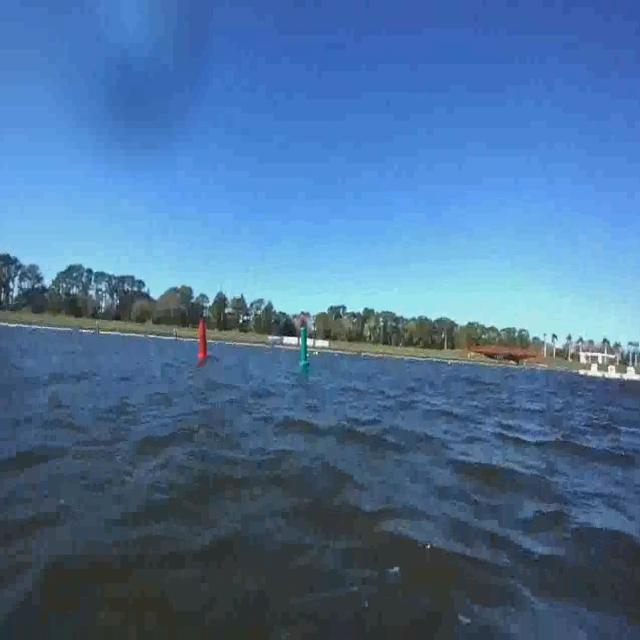green-column-buoy: (294, 316, 310, 374)
red-column-buoy: (188, 318, 210, 364)
